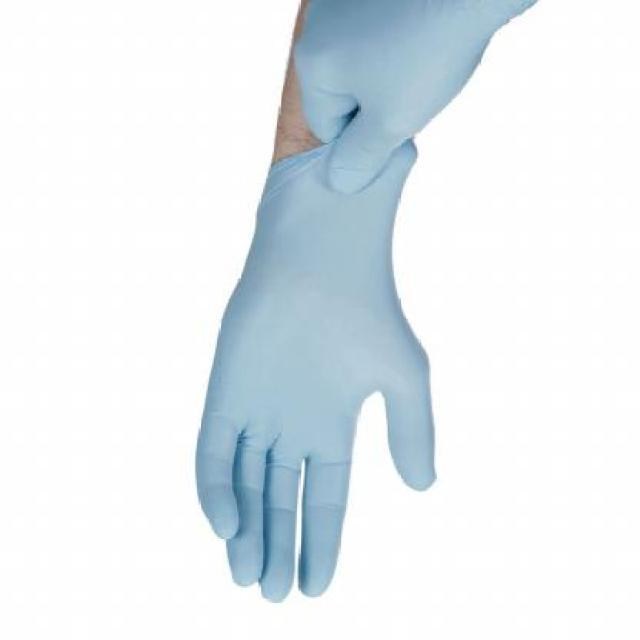gloved_hand: (194, 138, 448, 602), (271, 2, 547, 192)
